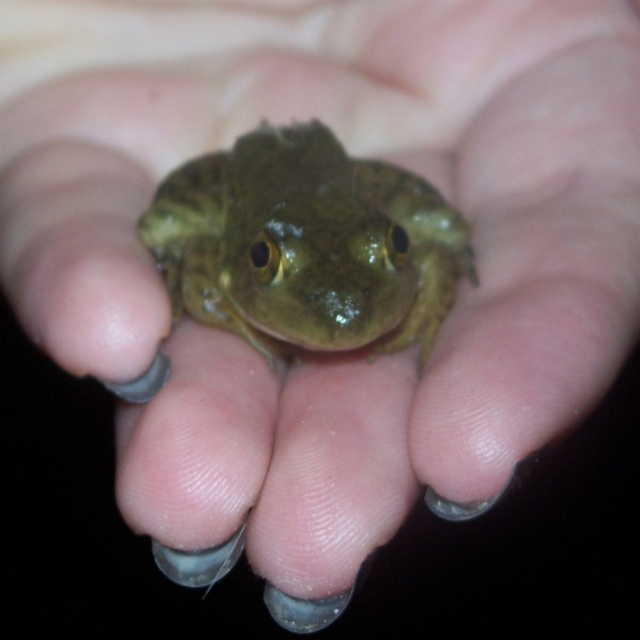Frog: (141, 117, 479, 370)
